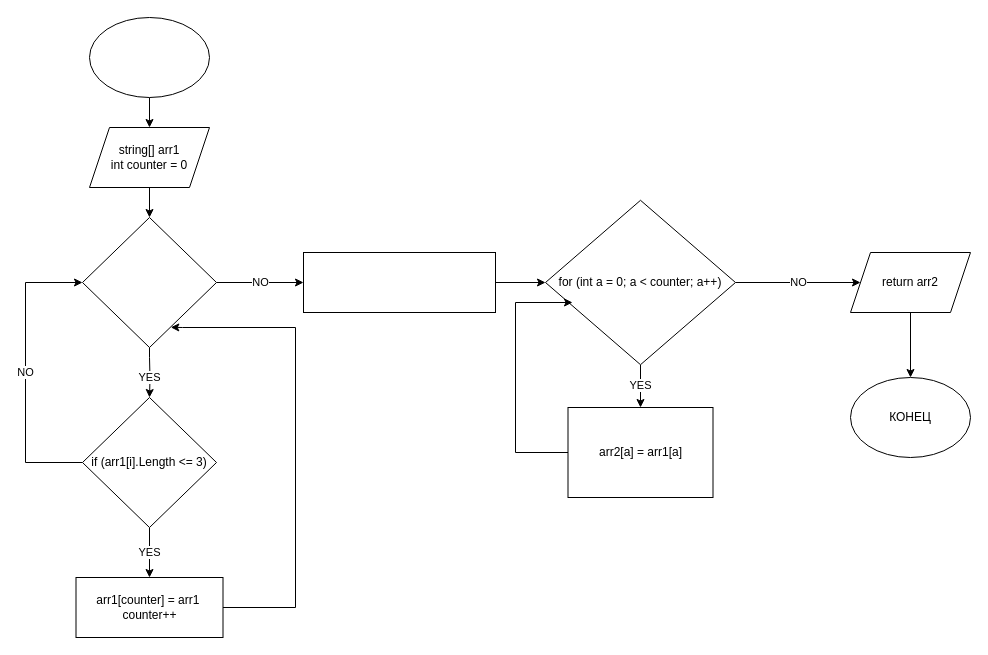
Image size: 988x655. Some labels were removed from this diagram. Each missing label, with the box of its shape:
for (int i = 0; i < arr1.Length; i++): (82, 216, 216, 348)
string[] arr2 = new string[counter]: (302, 252, 496, 312)
НАЧАЛО: (88, 16, 210, 98)
